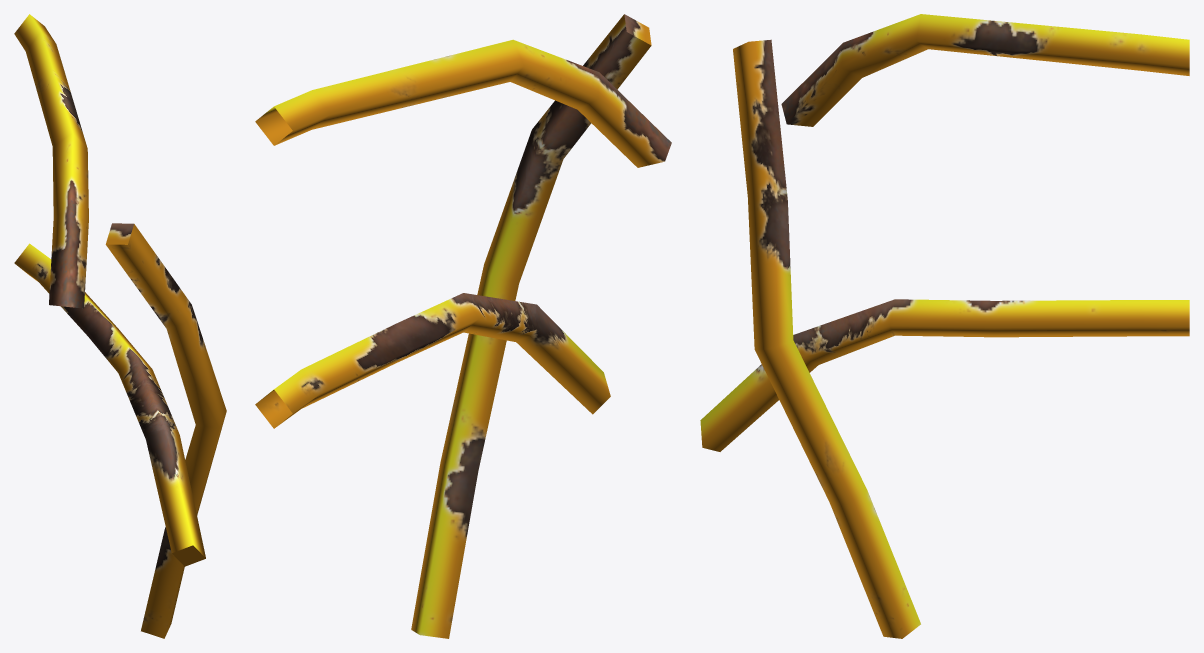
File: safetyRail_1m_E.fbx
3 views of the same model, side by side, from view 1: azimuth 30°, elevation 25°; view 2: azimuth 150°, elevation 25°; view 3: azimuth 270°, elevation 25° (orthographic). The views are drawn at different scales.
Parts seen in each view (by area): view 1: safetyRail_1m_E; view 2: safetyRail_1m_E; view 3: safetyRail_1m_E.
Part boxes in pixels (x1,y1,x2,y2): safetyRail_1m_E: [14, 14, 226, 638]; safetyRail_1m_E: [255, 14, 671, 638]; safetyRail_1m_E: [700, 14, 1189, 638].
Bounding box in the file's own units: 37.45 × 115 × 85.16.
